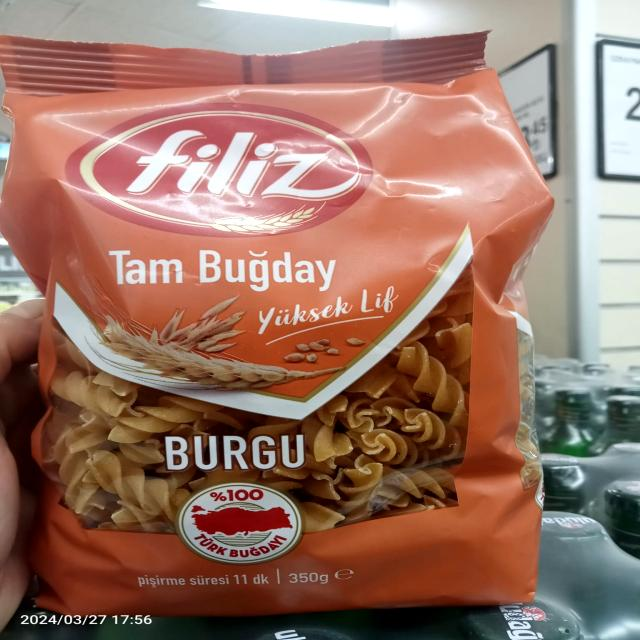fusilli pasta: (24, 80, 543, 610)
